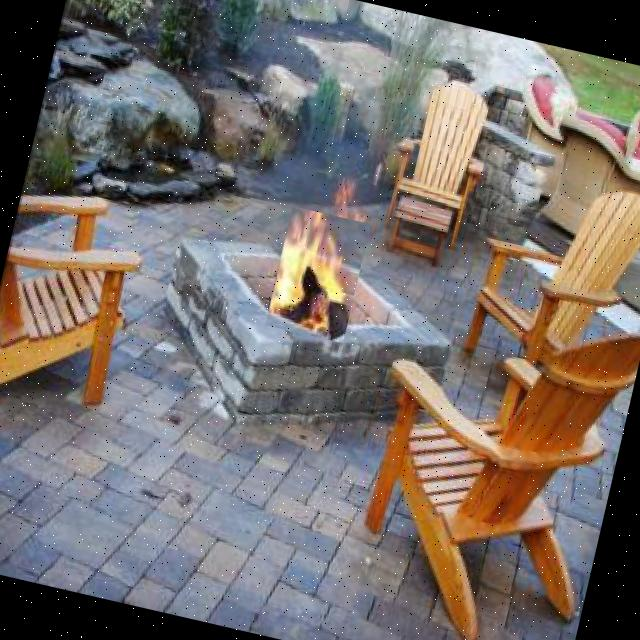fire: (264, 205, 370, 342)
